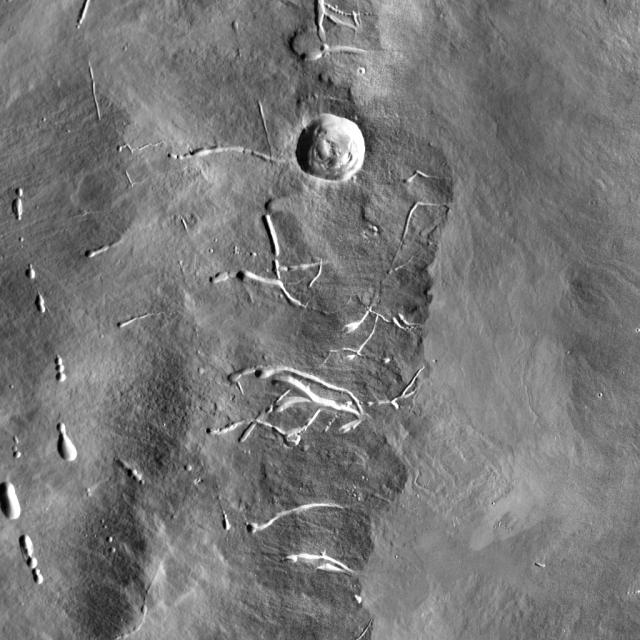crater: (297, 118, 367, 186), (358, 62, 365, 68)
